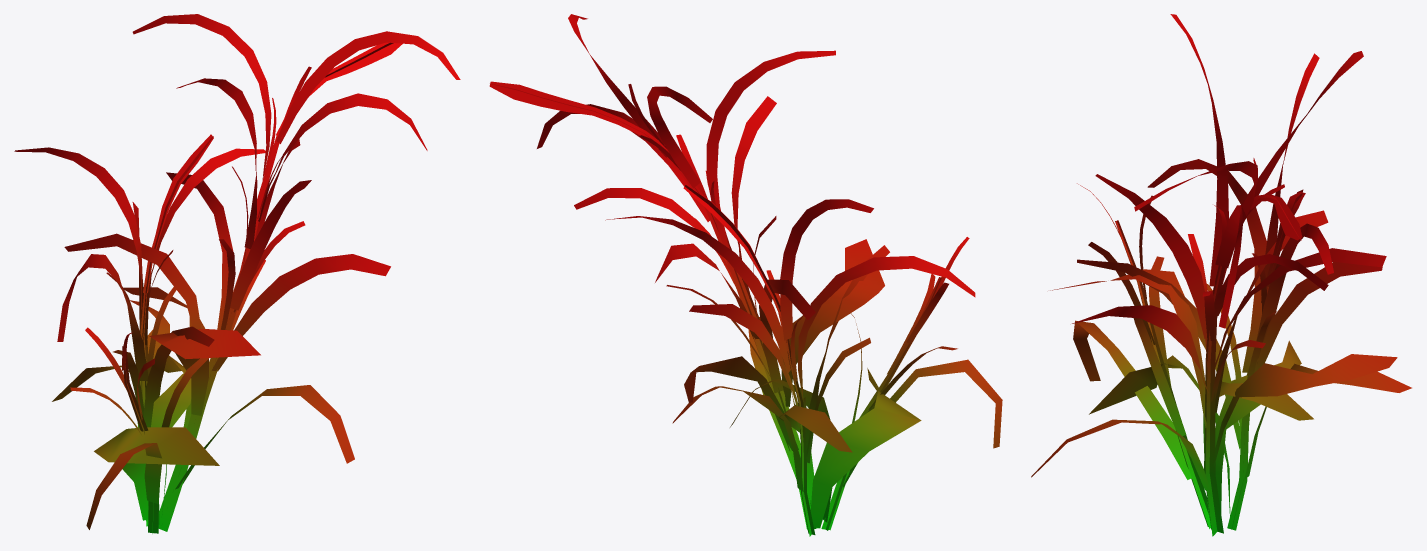
File: Great Brome_LOD2_Var2_tjugaikia.fbx
The picture shows the model from 3 angles, left to right: view 1: azimuth 30°, elevation 25°; view 2: azimuth 150°, elevation 25°; view 3: azimuth 270°, elevation 25°; orthographic projection. The views are drawn at different scales.
Parts seen in each view (by area): view 1: _6370_Var2_LOD2; view 2: _6370_Var2_LOD2; view 3: _6370_Var2_LOD2.
Part boxes in pixels (x1,y1,x2,y2): _6370_Var2_LOD2: [14, 14, 460, 533]; _6370_Var2_LOD2: [489, 14, 1002, 536]; _6370_Var2_LOD2: [1031, 14, 1411, 536].
Size of the model in its own units: 58.97 by 62.41 by 41.48.
